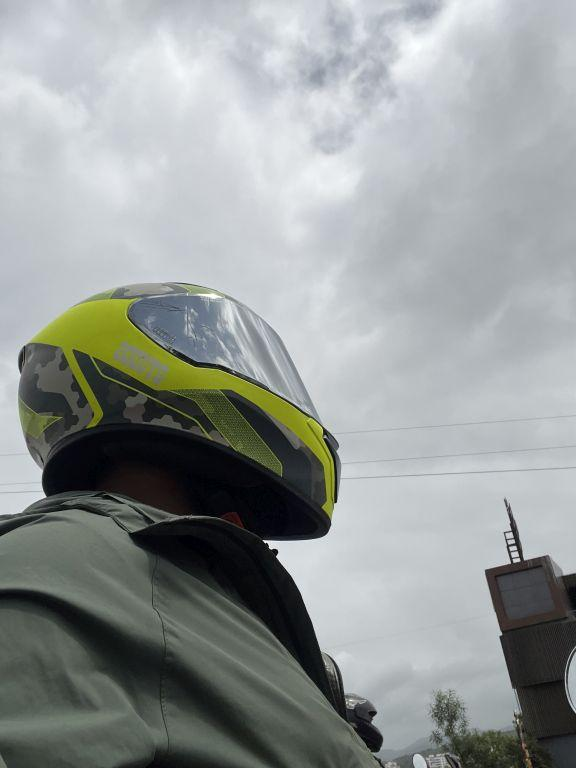helmet: (12, 267, 349, 547)
